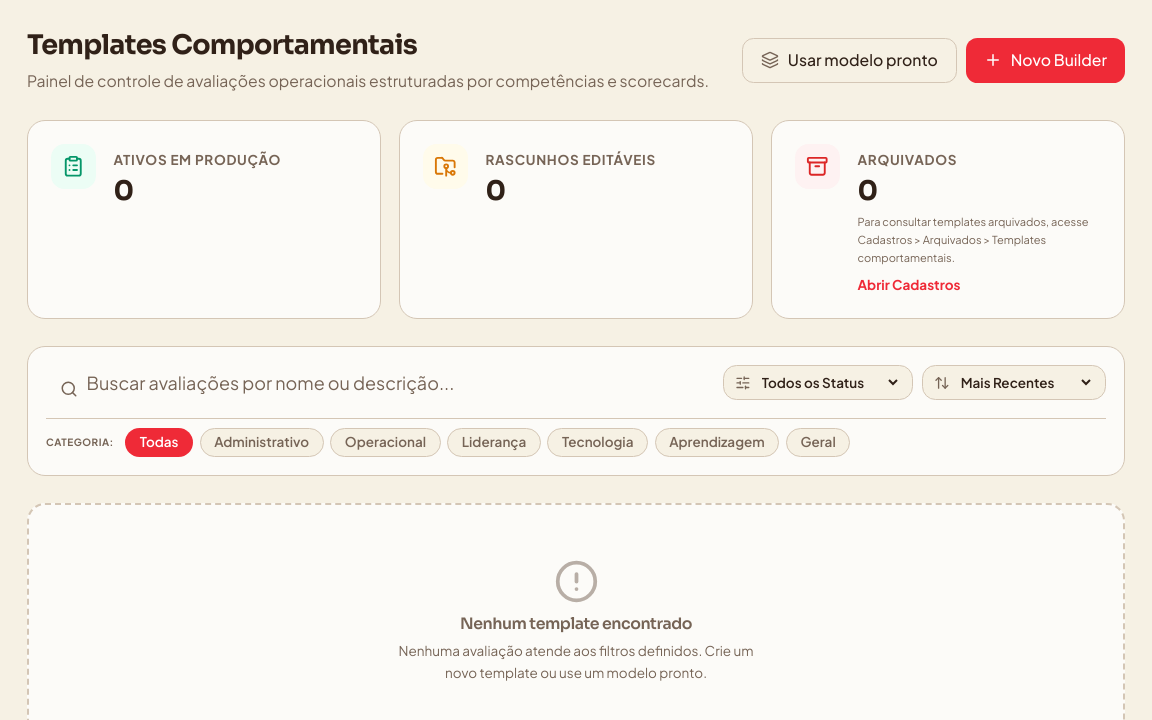
Test: BehavioralTemplatesPage › abre galeria de modelos ao clicar em 'Usar modelo pronto'
Expected: the heading "Nenhum template encontrado" is shown, [460,614,692,634]
Click the button "Usar modelo pronto". click: x=849, y=60
box: [742,38,957,82]
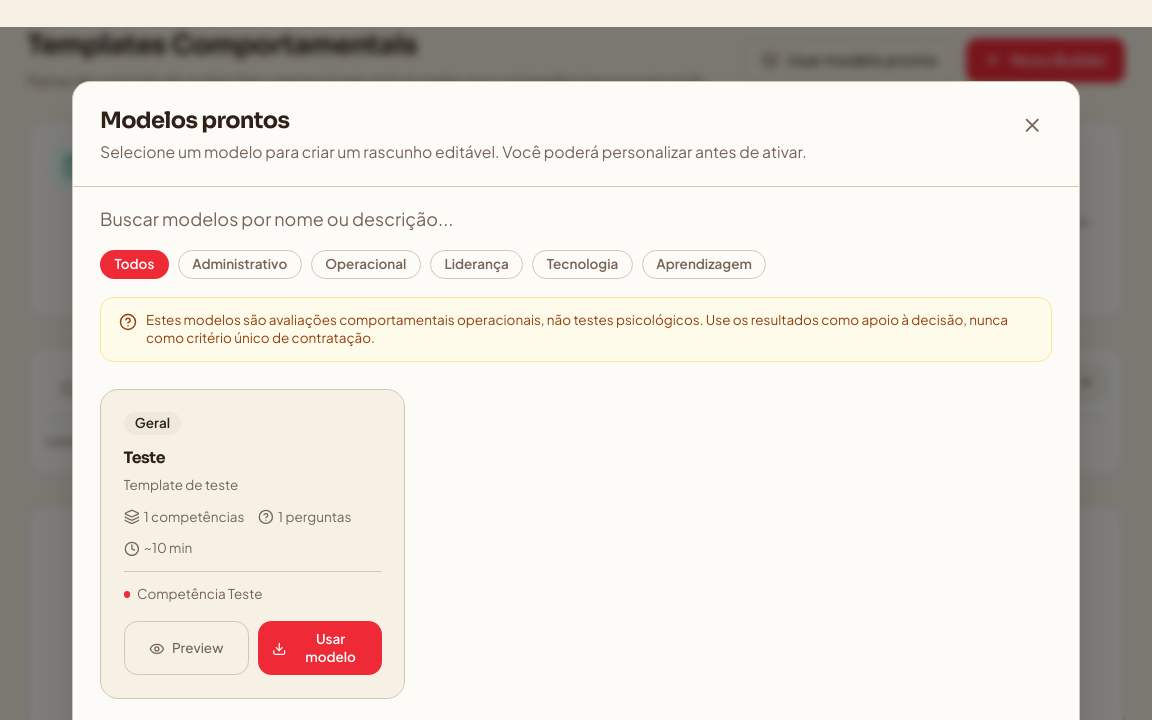
Result: the heading "Modelos prontos" is shown at [100,106,289,134]
Result: the heading "Teste" is shown at [124,448,165,468]
